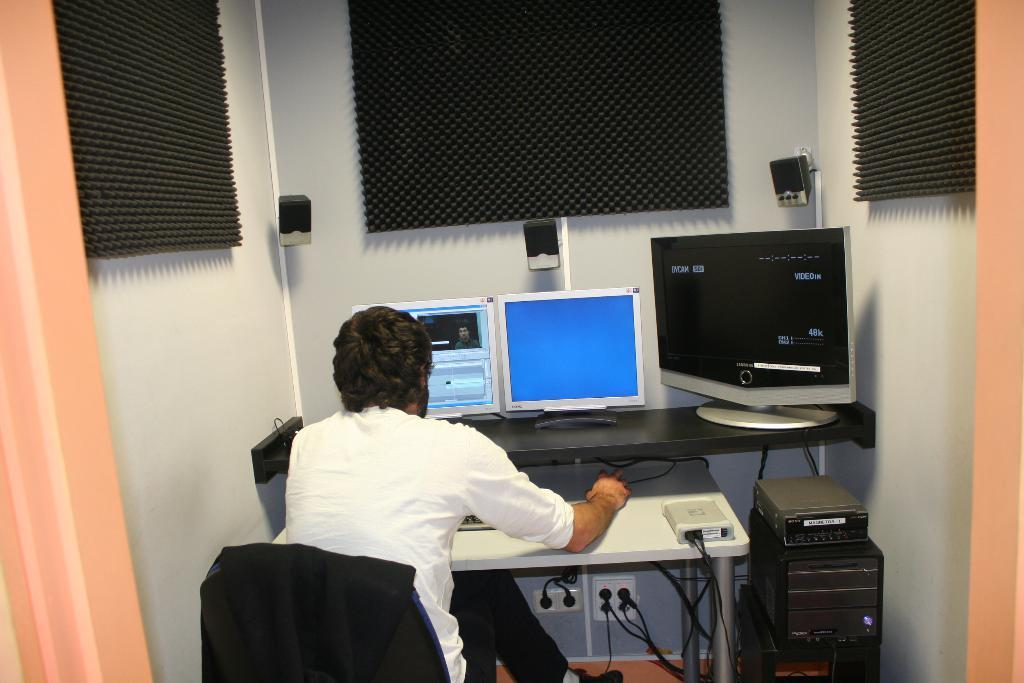Computer-keyboard: (456, 513, 494, 531)
Computer-monitor: (662, 238, 856, 419), (502, 287, 655, 431), (346, 298, 490, 422)
